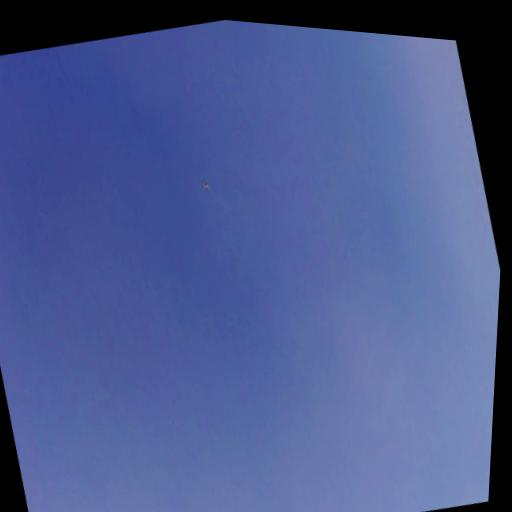drones: (198, 175, 213, 196)
